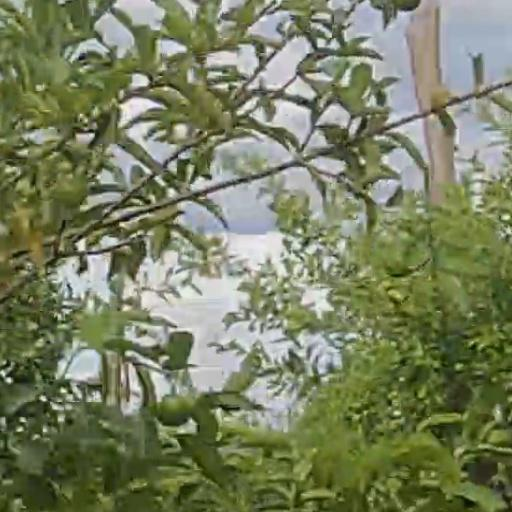acerola: (156, 394, 190, 426)
